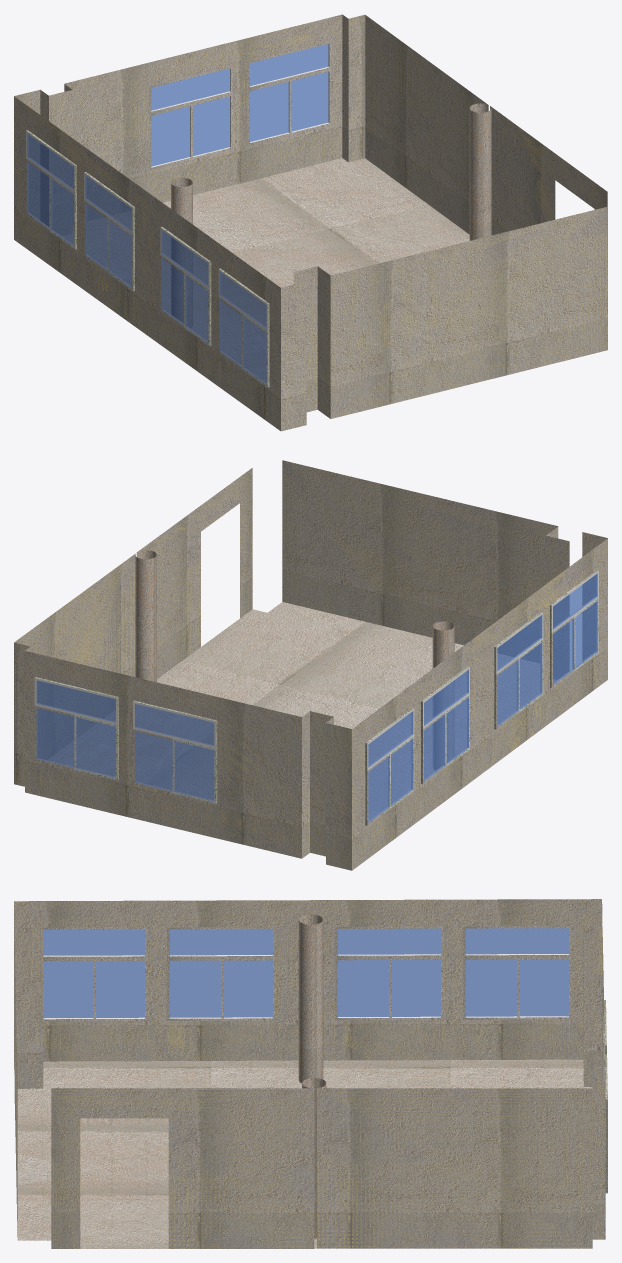
Rendered from AUL020.obj.
3 views of the same model, one above another, from view 1: azimuth 30°, elevation 25°; view 2: azimuth 150°, elevation 25°; view 3: azimuth 270°, elevation 25° (orthographic). The views are drawn at different scales.
Visible parts, largest first — view 1: Mesh37 AUL020 Model, Mesh1 ventana1_2_1 AUL020 Model, Mesh19 ventana1_2_4 AUL020 Model, Mesh7 ventana1_2_2 AUL020 Model, Mesh31 ventana1_2_6 AUL020 Model, Mesh13 ventana1_2_3 AUL020 Model, Mesh25 ventana1_2_5 AUL020 Model; view 2: Mesh37 AUL020 Model, Mesh1 ventana1_2_1 AUL020 Model, Mesh19 ventana1_2_4 AUL020 Model, Mesh31 ventana1_2_6 AUL020 Model, Mesh25 ventana1_2_5 AUL020 Model, Mesh7 ventana1_2_2 AUL020 Model, Mesh13 ventana1_2_3 AUL020 Model; view 3: Mesh37 AUL020 Model, Mesh13 ventana1_2_3 AUL020 Model, Mesh25 ventana1_2_5 AUL020 Model, Mesh31 ventana1_2_6 AUL020 Model, Mesh7 ventana1_2_2 AUL020 Model.
Boxes of the visible parts, x1,y1,x2,y2 form: Mesh37 AUL020 Model: (14, 14, 607, 431); Mesh1 ventana1_2_1 AUL020 Model: (149, 65, 232, 169); Mesh19 ventana1_2_4 AUL020 Model: (248, 41, 331, 145); Mesh7 ventana1_2_2 AUL020 Model: (218, 268, 269, 387); Mesh31 ventana1_2_6 AUL020 Model: (160, 226, 211, 345); Mesh13 ventana1_2_3 AUL020 Model: (84, 172, 134, 291); Mesh25 ventana1_2_5 AUL020 Model: (26, 130, 76, 249); Mesh37 AUL020 Model: (14, 460, 607, 870); Mesh1 ventana1_2_1 AUL020 Model: (133, 700, 217, 803); Mesh19 ventana1_2_4 AUL020 Model: (34, 677, 118, 780); Mesh31 ventana1_2_6 AUL020 Model: (494, 611, 543, 729); Mesh25 ventana1_2_5 AUL020 Model: (365, 707, 414, 825); Mesh7 ventana1_2_2 AUL020 Model: (550, 570, 598, 687); Mesh13 ventana1_2_3 AUL020 Model: (421, 666, 469, 784); Mesh37 AUL020 Model: (14, 899, 605, 1248); Mesh13 ventana1_2_3 AUL020 Model: (335, 926, 443, 1020); Mesh25 ventana1_2_5 AUL020 Model: (463, 926, 571, 1019); Mesh31 ventana1_2_6 AUL020 Model: (167, 927, 275, 1020); Mesh7 ventana1_2_2 AUL020 Model: (39, 927, 147, 1021).
Bounding box in the file's own units: 9.15 × 3.6 × 12.08.
8 materials, 2 textured.
